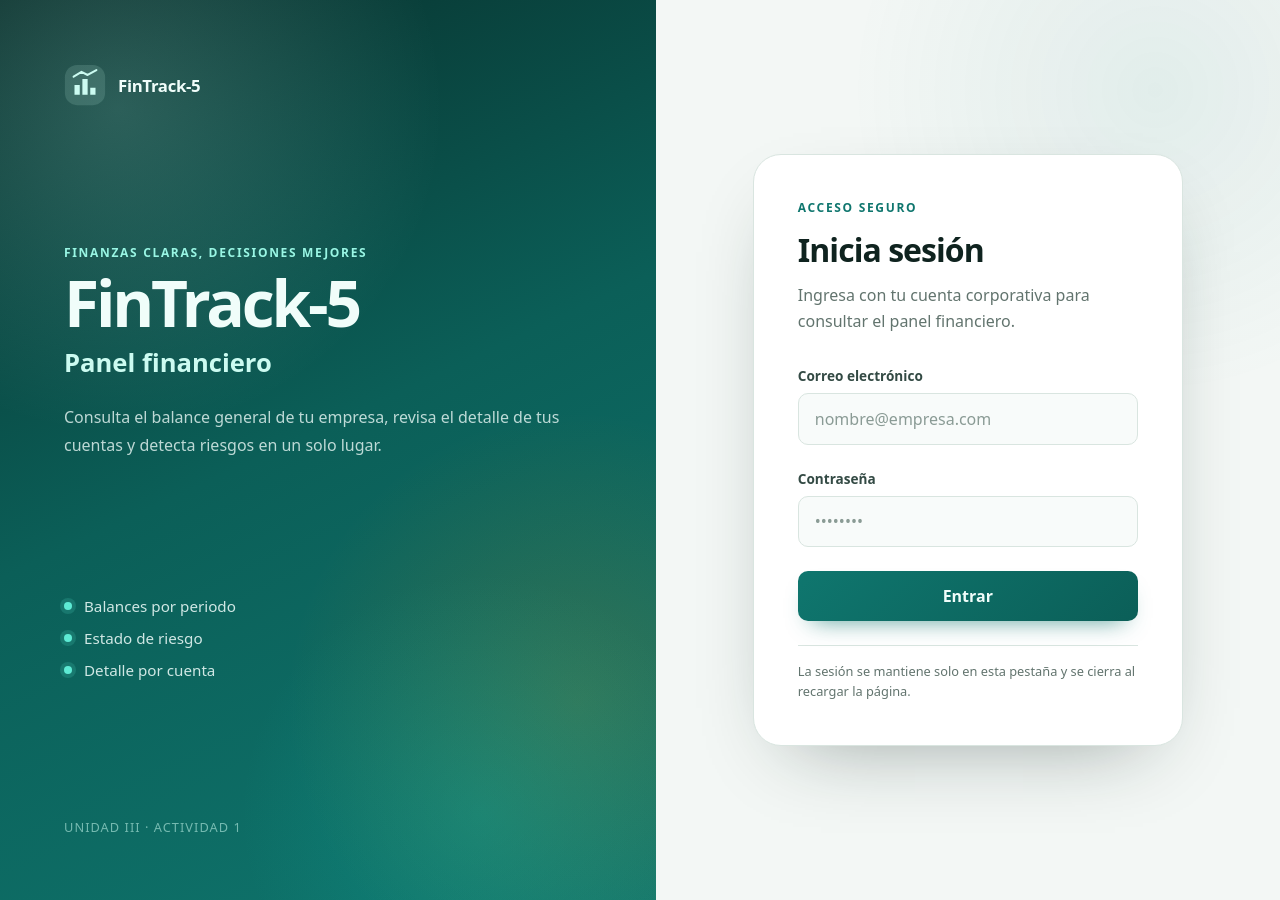
Test: login › valida los campos obligatorios antes de enviar
Click the button "Entrar".
click(968, 596)  # box x1=798 y1=571 x2=1138 y2=622
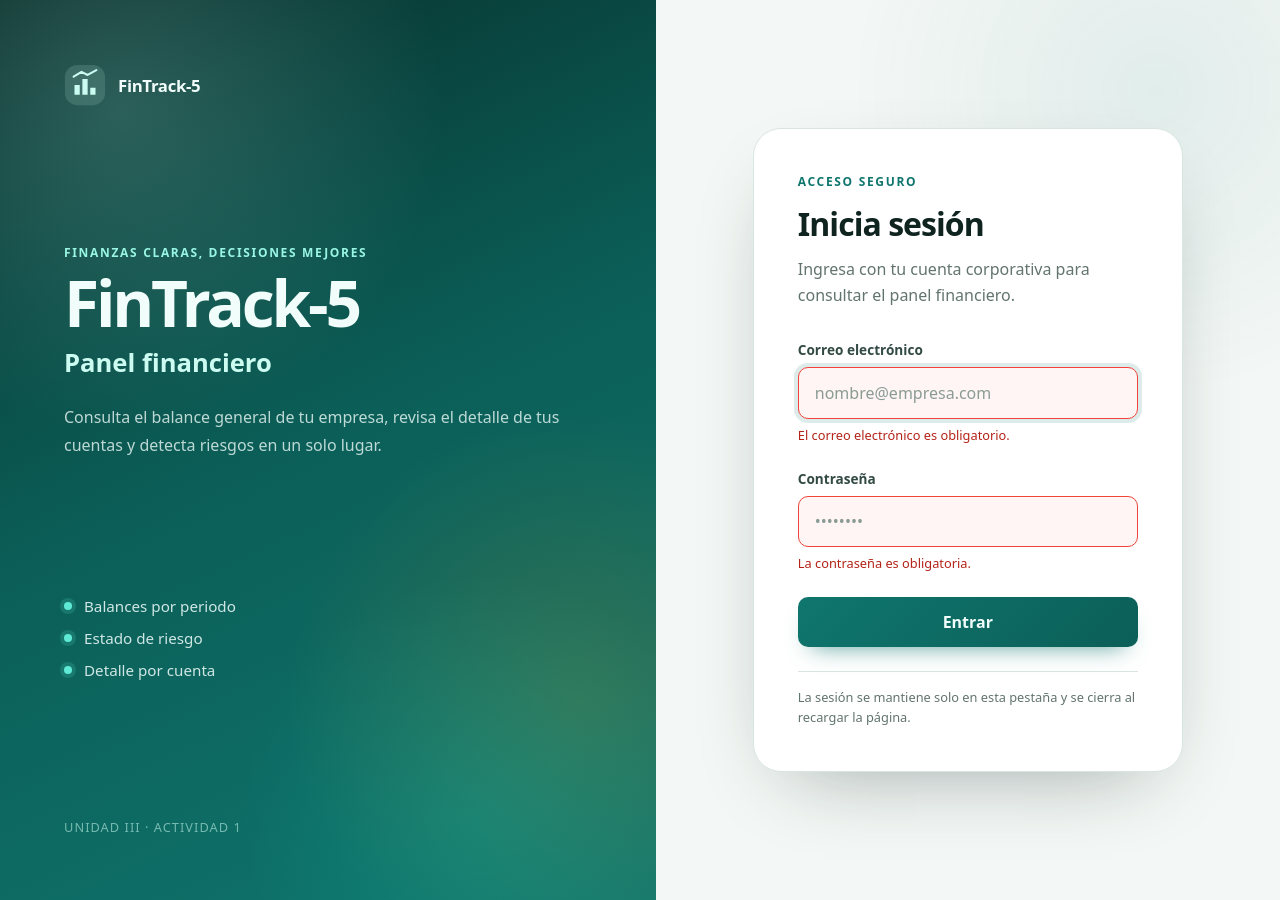
Now the text "El correo electrónico es obligatorio." is shown, box x1=798 y1=426 x2=1010 y2=444
Now the text "La contraseña es obligatoria." is shown, box x1=798 y1=554 x2=971 y2=572
